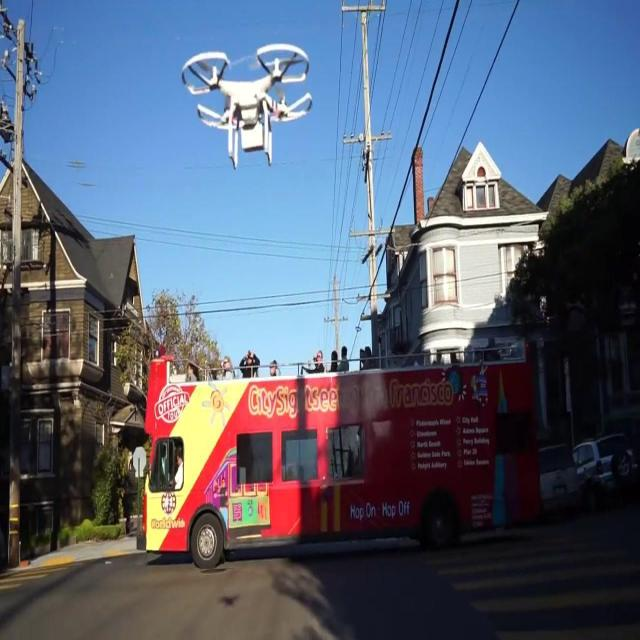drone: (180, 38, 314, 174)
